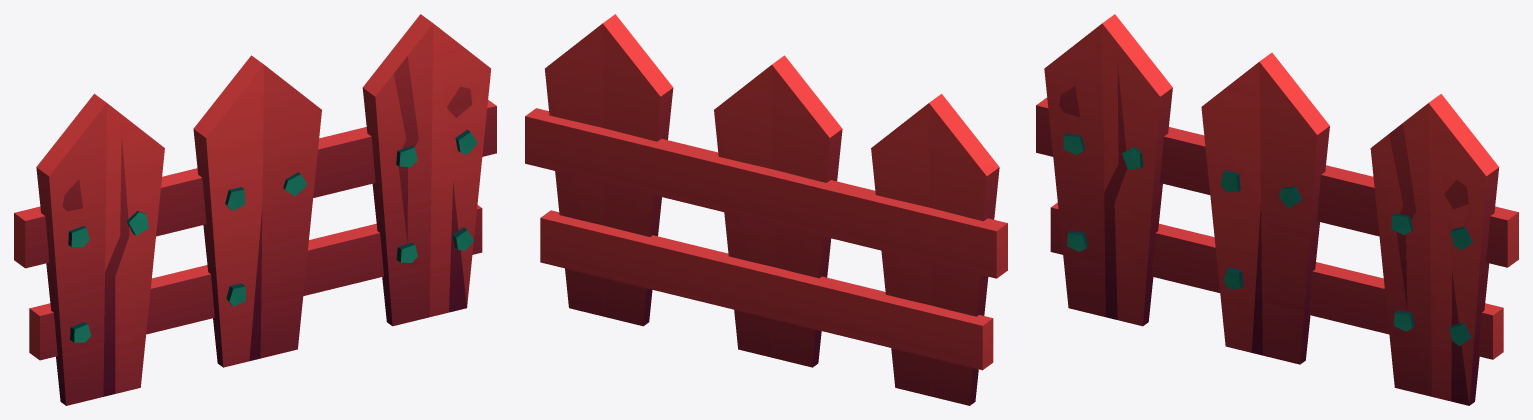
File: fence_1.glb
3 renders of one model, left to right at view 1: azimuth 30°, elevation 25°; view 2: azimuth 150°, elevation 25°; view 3: azimuth 330°, elevation 25°, orthographic.
Parts seen in each view (by area): view 1: fence_1; view 2: fence_1; view 3: fence_1.
Boxes of the visible parts, bbox=[...] form: fence_1: bbox=[14, 14, 496, 405]; fence_1: bbox=[525, 14, 1007, 405]; fence_1: bbox=[1036, 14, 1518, 405].
Bounding box in the file's own units: 1.05 × 0.6302 × 0.0799.
1 material, 1 textured.
